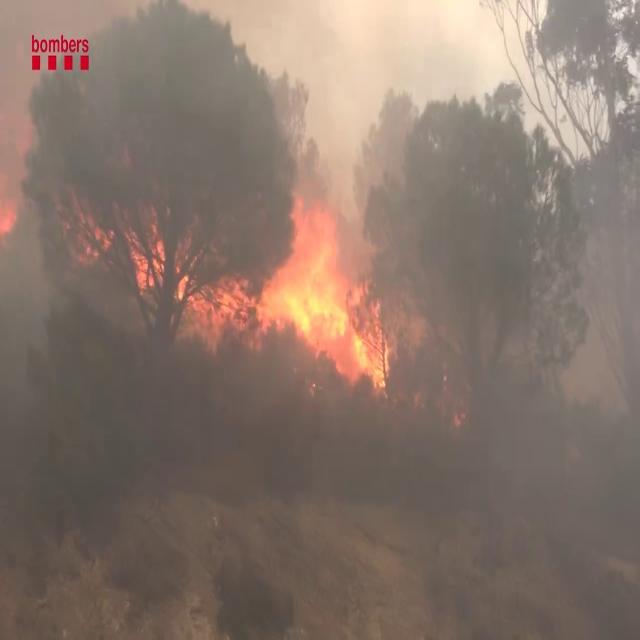Fire: (194, 192, 396, 388), (120, 214, 186, 316)
Smoke: (355, 3, 640, 623)
